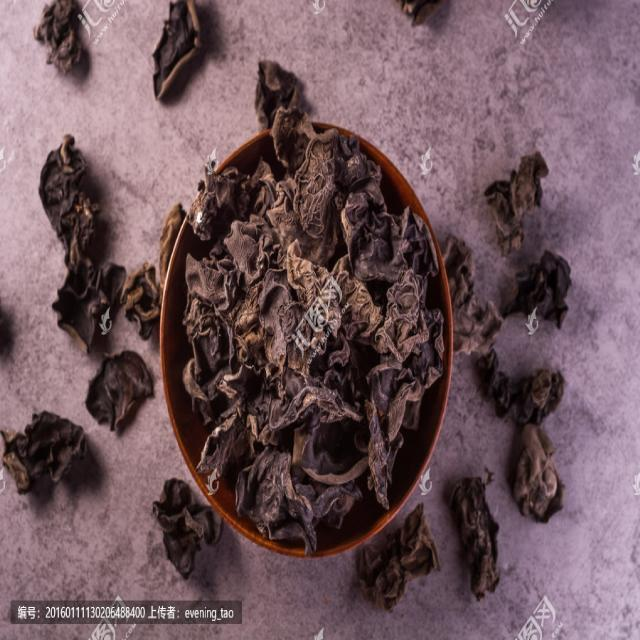Auricularia auricula: (177, 115, 444, 546), (42, 133, 125, 353), (479, 351, 568, 519), (355, 506, 441, 602), (2, 410, 92, 495), (445, 472, 502, 600), (152, 471, 220, 575), (439, 241, 501, 351), (483, 156, 551, 254), (151, 1, 203, 100), (502, 253, 571, 327), (34, 2, 88, 74), (253, 61, 303, 124), (125, 264, 163, 341)
